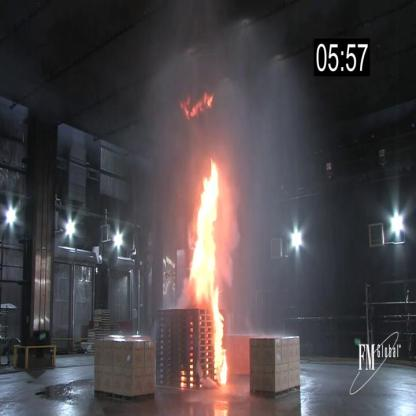fire: (189, 161, 231, 390), (179, 88, 217, 121)
